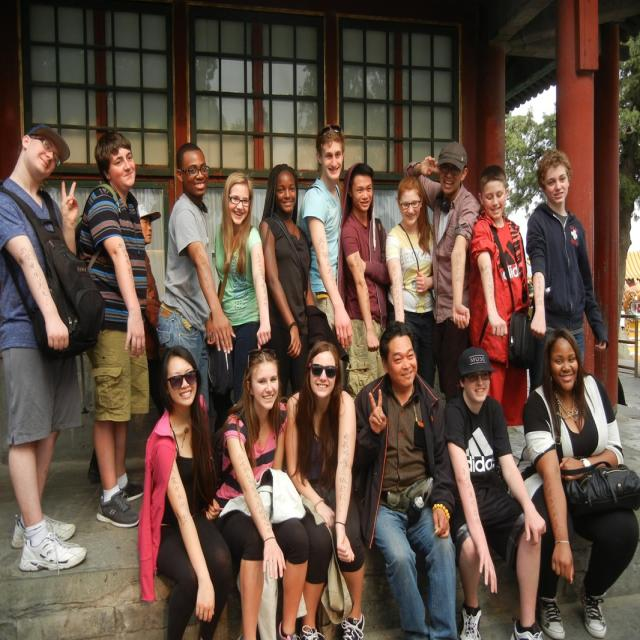body: (0, 121, 107, 578), (506, 321, 640, 639), (344, 316, 463, 639), (69, 128, 153, 530), (440, 343, 550, 639), (133, 343, 238, 639), (215, 342, 312, 639), (279, 337, 368, 639), (155, 142, 238, 414), (524, 148, 611, 398), (401, 140, 481, 408), (258, 162, 329, 407), (469, 163, 531, 430), (213, 171, 273, 404), (336, 160, 392, 403), (299, 122, 355, 352), (382, 170, 439, 392), (135, 202, 168, 420)
